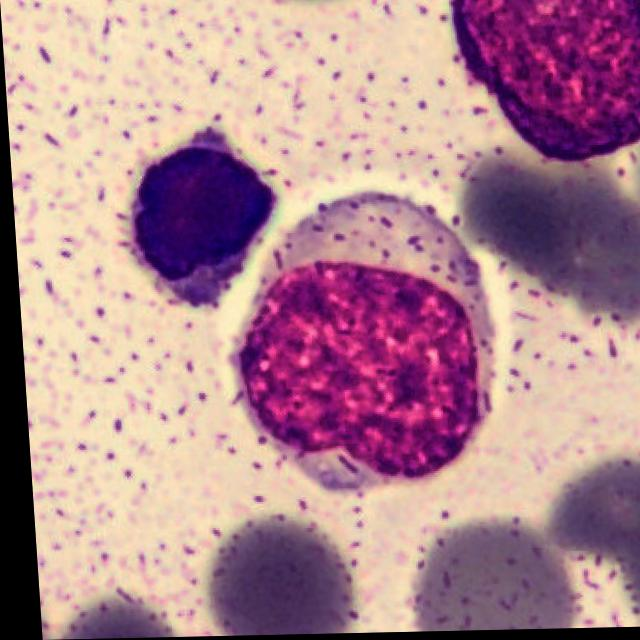Mieloblasto: (214, 194, 489, 489)
Restos celulares: (450, 0, 640, 167)
